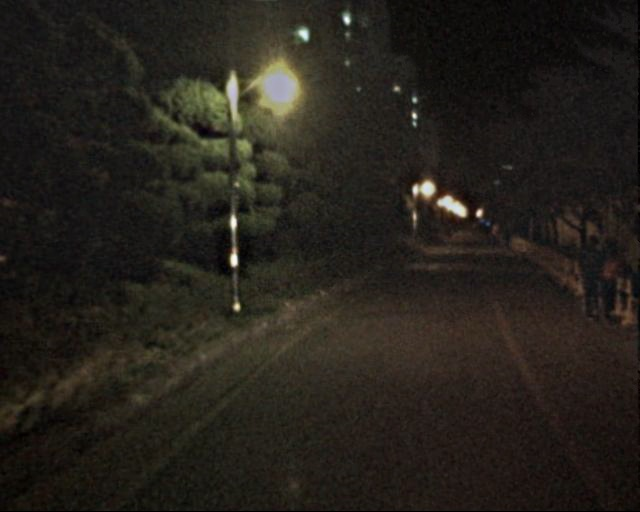person: (573, 237, 610, 327), (591, 237, 624, 317)
